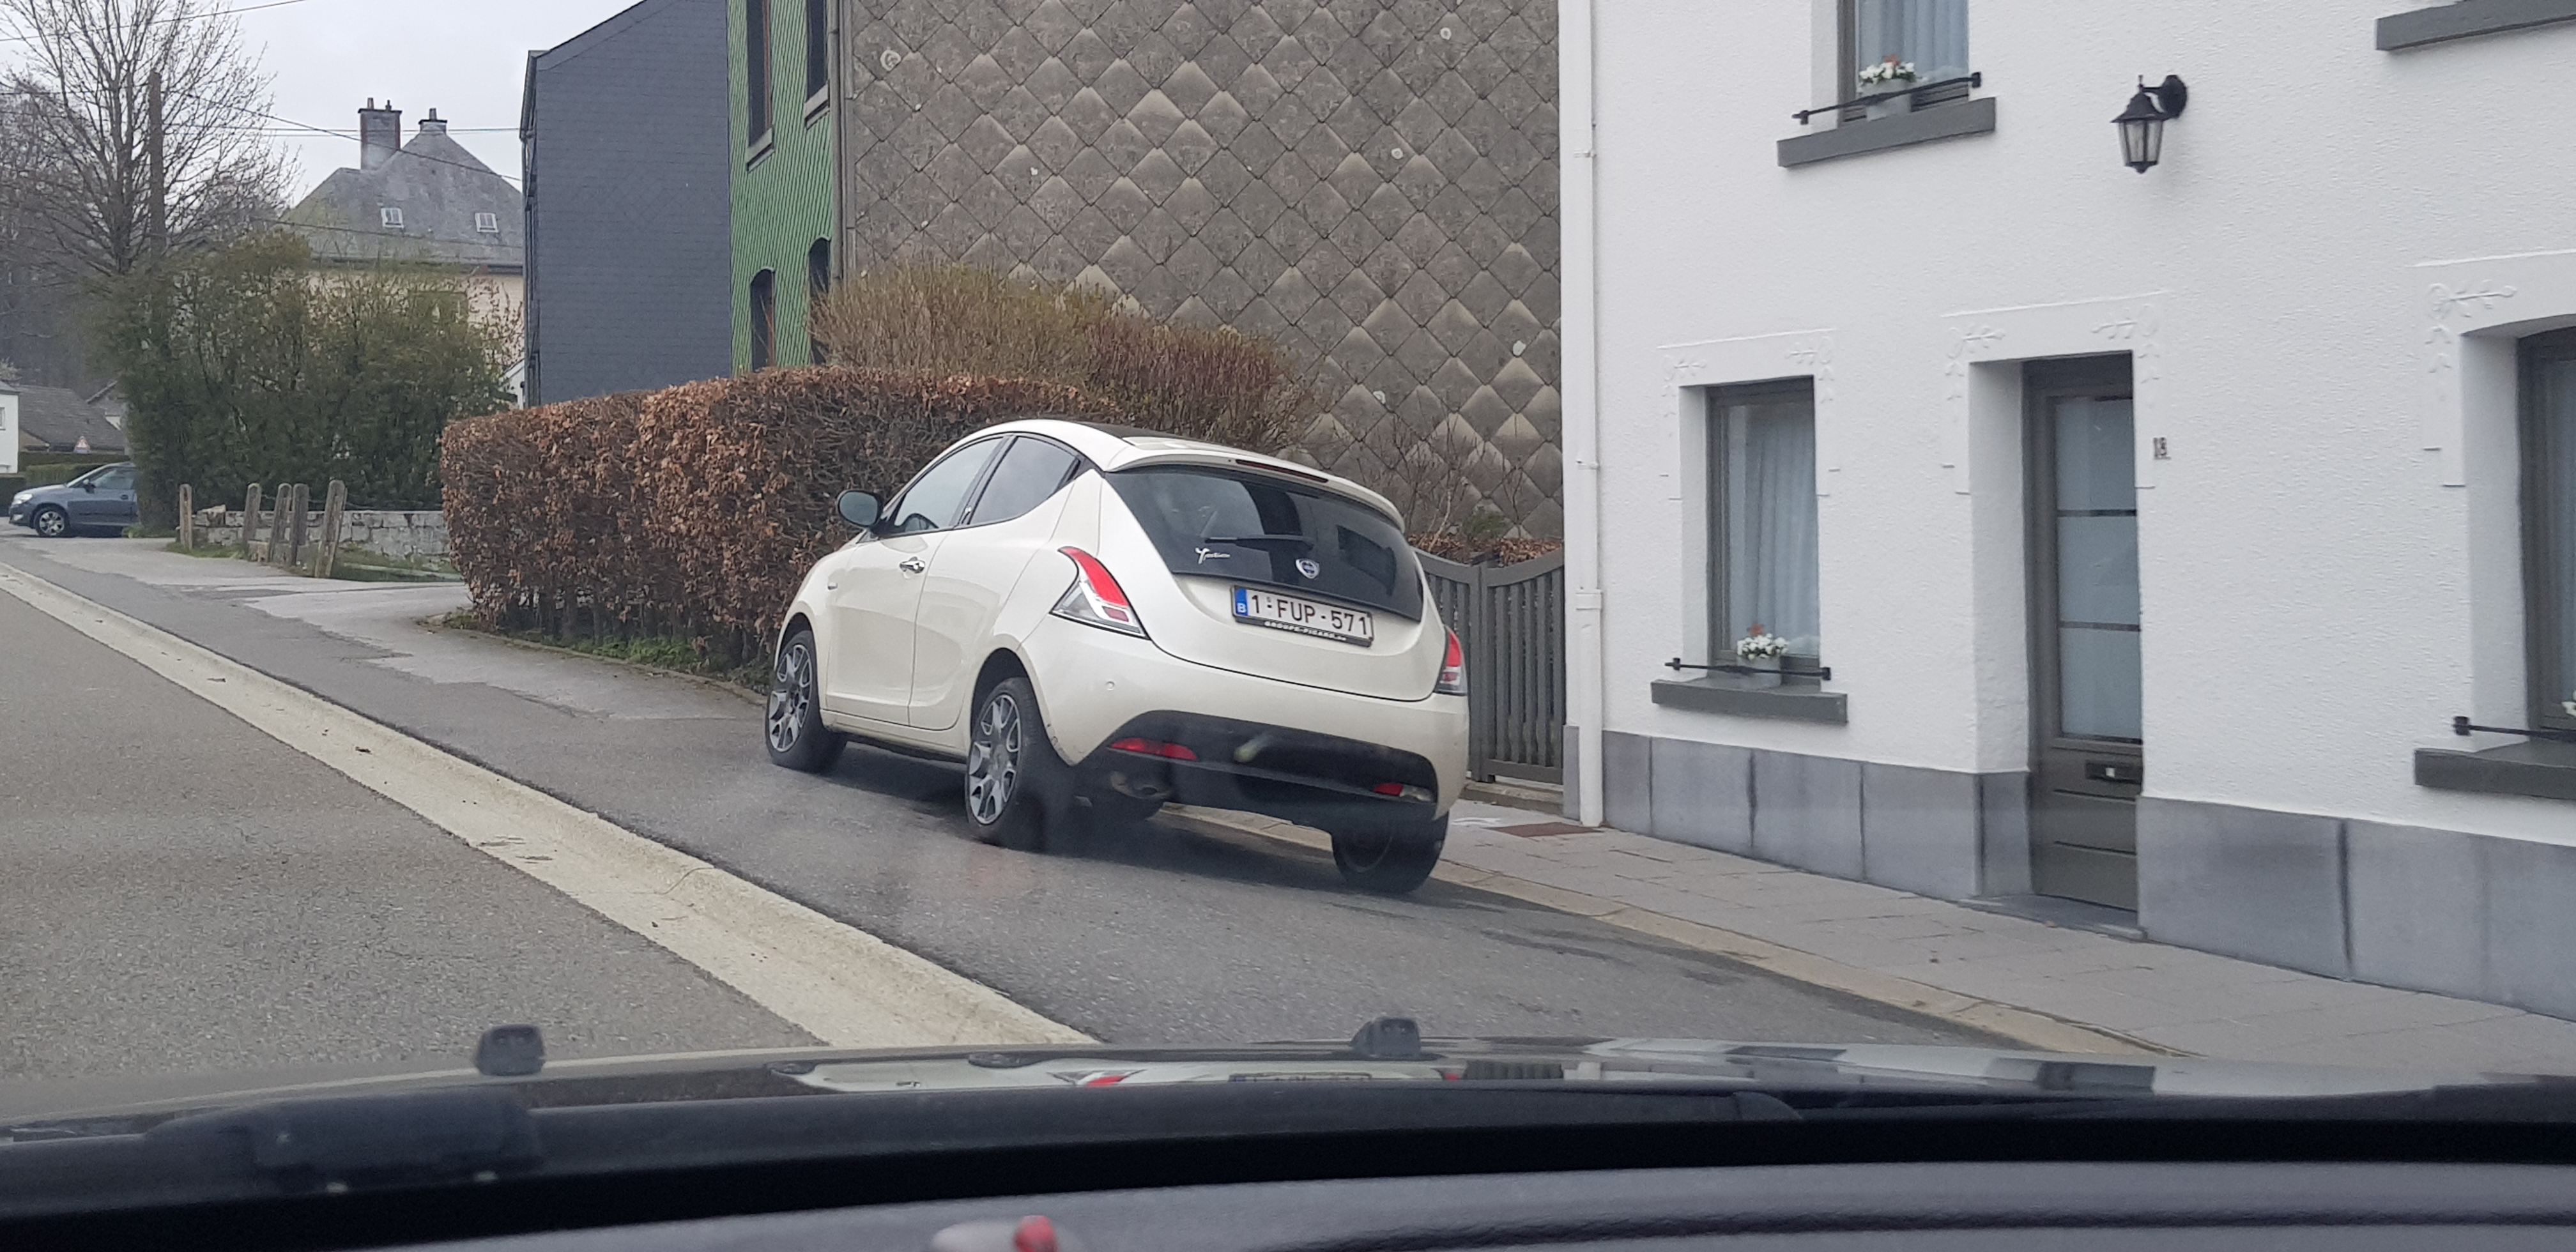licenceplate: (1229, 581, 1377, 645)
